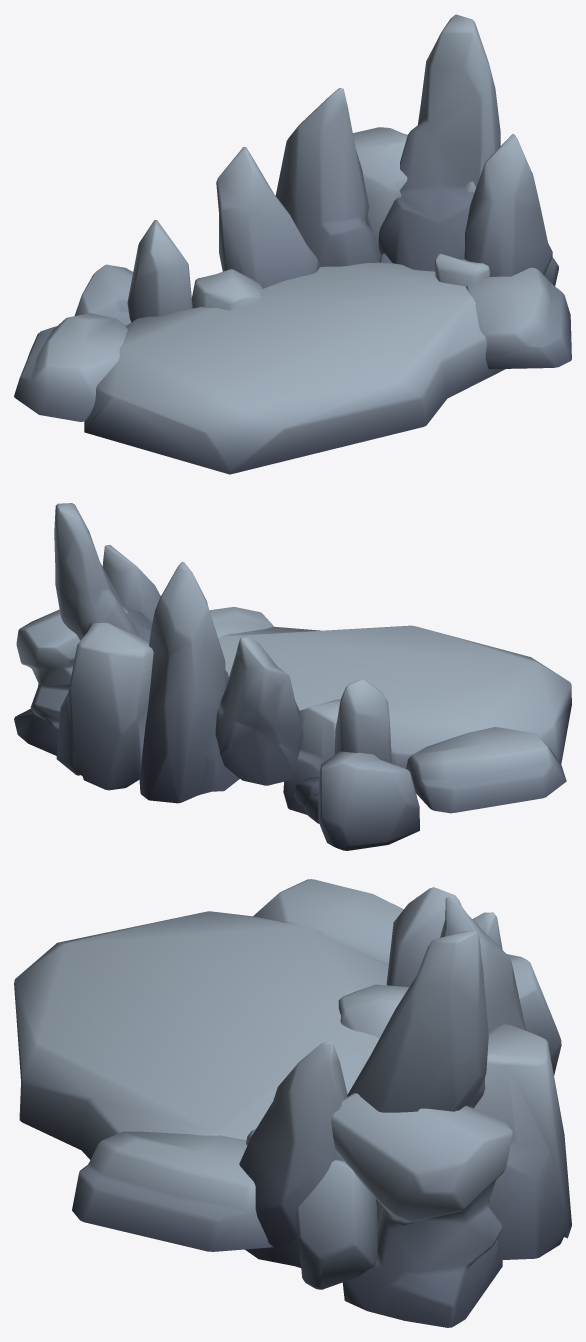
File: NormalCaveDark.fbx
3 renders of one model, top to bottom at view 1: azimuth 30°, elevation 25°; view 2: azimuth 150°, elevation 25°; view 3: azimuth 270°, elevation 25°, orthographic. The views are drawn at different scales.
Visible parts, largest first — view 1: NormalCavesDire_high; view 2: NormalCavesDire_high; view 3: NormalCavesDire_high.
Part boxes in pixels (x1,y1,x2,y2): NormalCavesDire_high: (14, 14, 571, 474); NormalCavesDire_high: (14, 503, 571, 850); NormalCavesDire_high: (14, 879, 571, 1327).
Size of the model in its own units: 992 by 501 by 653.
